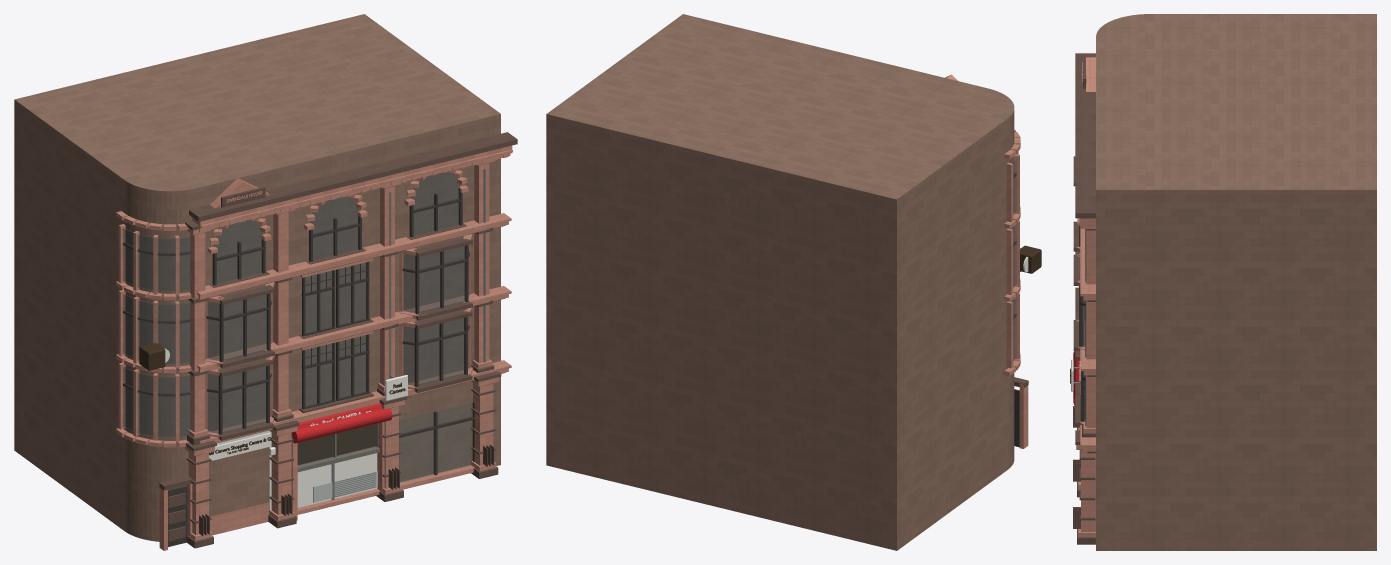
Rendered from real_camera.glb.
The picture shows the model from 3 angles, left to right: view 1: azimuth 30°, elevation 25°; view 2: azimuth 150°, elevation 25°; view 3: azimuth 270°, elevation 25°; orthographic projection. The views are drawn at different scales.
Parts seen in each view (by area): view 1: RC_MainBuildingMass, RC_LeverStreetReturnMass, RC_QuarterRoundCorner, RC_CorniceCap, RC_AdjacentWindow, RC_UpperPier_0_Shaft, RC_UpperPier_1_Shaft, RC_UpperPier_3_Shaft, RC_UpperPier_2_Shaft, RC_Floor1_AdjacentBay_FrontGlass, RC_Floor2_AdjacentBay_FrontGlass, RC_Floor1_GalleryBay_FrontGlass (+44 smaller); view 2: RC_MainBuildingMass, RC_LeverStreetReturnMass, RC_QuarterRoundCorner, RC_SecondaryDoorJamb_L; view 3: RC_MainBuildingMass, RC_LeverStreetReturnMass, RC_CorniceCap, RC_UpperPier_3_Shaft, RC_GroundPilaster_3_Shaft, RC_QuarterRoundCorner, RC_StringCourse_2_Lip.
Part boxes in pixels (x1,y1,x2,y2): RC_MainBuildingMass: (60,14,500,535); RC_LeverStreetReturnMass: (14,88,169,530); RC_QuarterRoundCorner: (124,169,196,541); RC_CorniceCap: (189,132,517,221); RC_AdjacentWindow: (399,403,471,482); RC_UpperPier_0_Shaft: (190,232,205,432); RC_UpperPier_1_Shaft: (273,212,288,412); RC_UpperPier_3_Shaft: (474,163,489,363); RC_UpperPier_2_Shaft: (380,186,394,386); RC_Floor1_AdjacentBay_FrontGlass: (418,318,464,385); RC_Floor2_AdjacentBay_FrontGlass: (419,246,465,312); RC_Floor1_GalleryBay_FrontGlass: (222,366,266,432); RC_MainBuildingMass: (546,14,987,539); RC_LeverStreetReturnMass: (851,107,1007,550); RC_QuarterRoundCorner: (962,88,1014,469); RC_SecondaryDoorJamb_L: (1019,384,1028,448); RC_MainBuildingMass: (1096,37,1376,550); RC_LeverStreetReturnMass: (1150,14,1376,36); RC_CorniceCap: (1075,53,1095,218); RC_UpperPier_3_Shaft: (1086,230,1095,427); RC_GroundPilaster_3_Shaft: (1081,450,1095,531); RC_QuarterRoundCorner: (1096,14,1149,36); RC_StringCourse_2_Lip: (1080,228,1095,296).
Bounding box in the file's own units: 15.93 × 14.76 × 11.36.
Materials: 21 (10 with a texture image).
